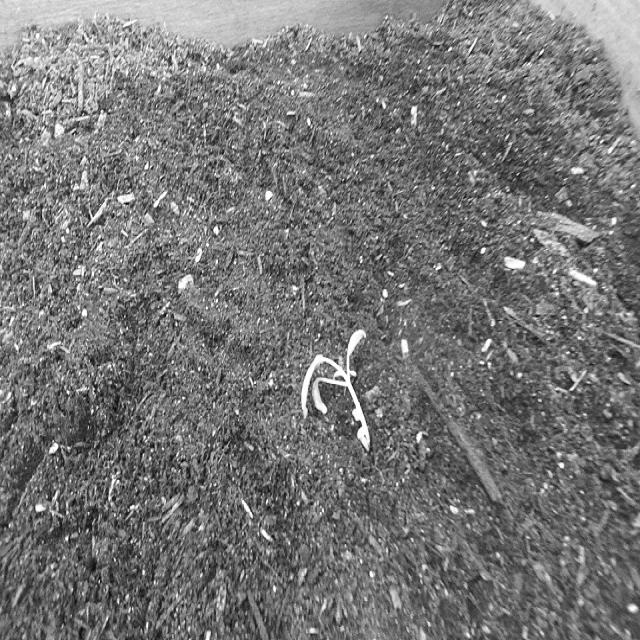Healthy: (298, 324, 378, 457)
